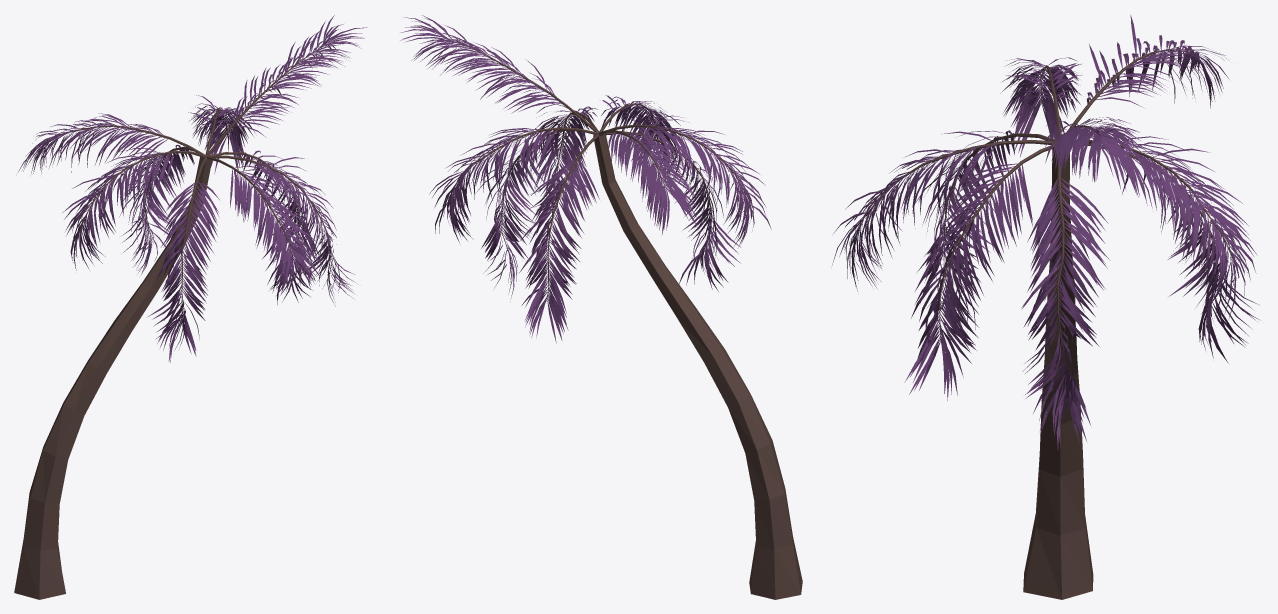
Rendered from kokonut-anim-grandpetit.fbx.
The picture shows the model from 3 angles, left to right: view 1: azimuth 30°, elevation 25°; view 2: azimuth 150°, elevation 25°; view 3: azimuth 270°, elevation 25°; orthographic projection. The views are drawn at different scales.
Parts seen in each view (by area): view 1: Forester_Tree; view 2: Forester_Tree; view 3: Forester_Tree.
Part boxes in pixels (x1,y1,x2,y2): Forester_Tree: [14, 15, 367, 599]; Forester_Tree: [400, 15, 802, 599]; Forester_Tree: [832, 15, 1259, 599].
Size of the model in its own units: 949 by 1168 by 679.
